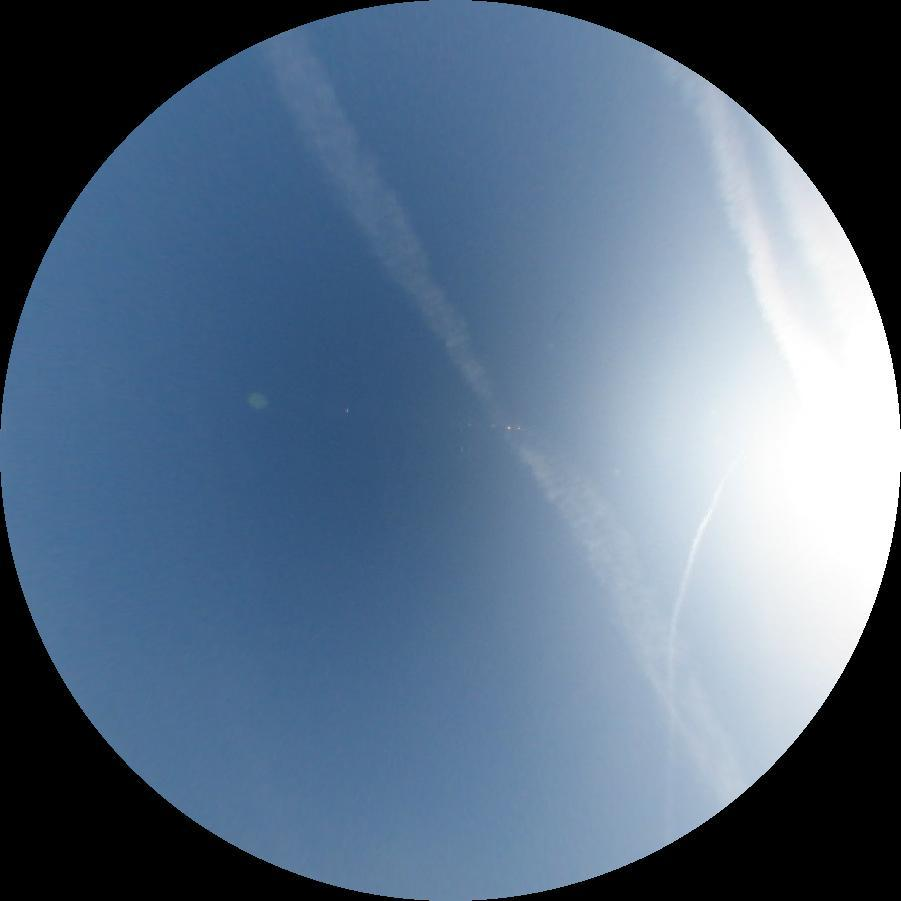contrail old: (639, 494, 718, 848)
contrail veryold: (248, 15, 778, 805), (667, 46, 820, 354), (763, 114, 887, 359)
